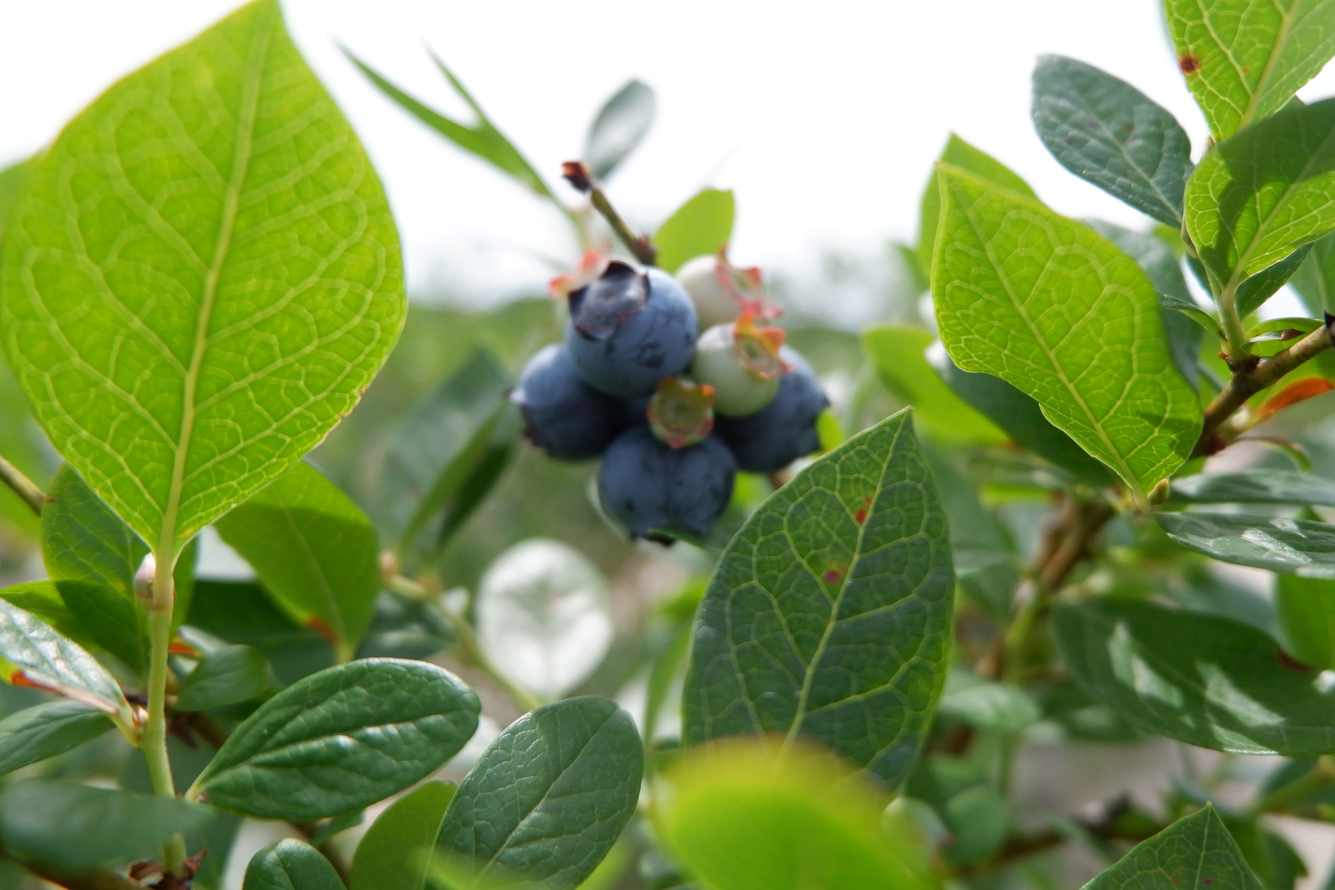Immature: (690, 313, 782, 415), (676, 256, 769, 328), (648, 377, 713, 441)
Mature: (566, 262, 695, 394), (599, 423, 734, 540), (510, 345, 638, 459), (714, 353, 828, 474)
